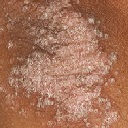Pityriasis Rubra Pilaris: (5, 1, 113, 128)
